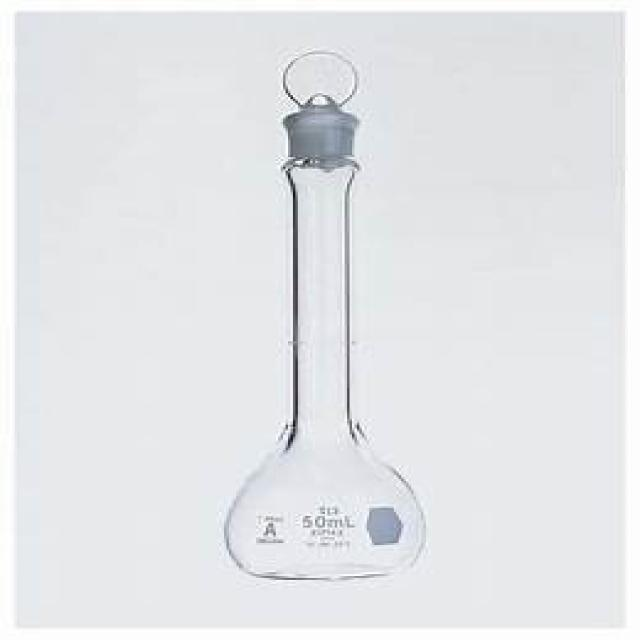Volumetric flask: (221, 50, 428, 582)
